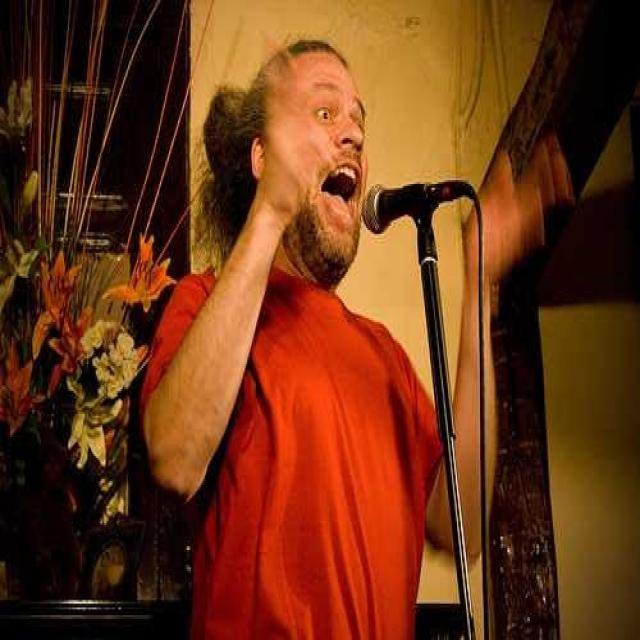microphone: (362, 174, 472, 234)
